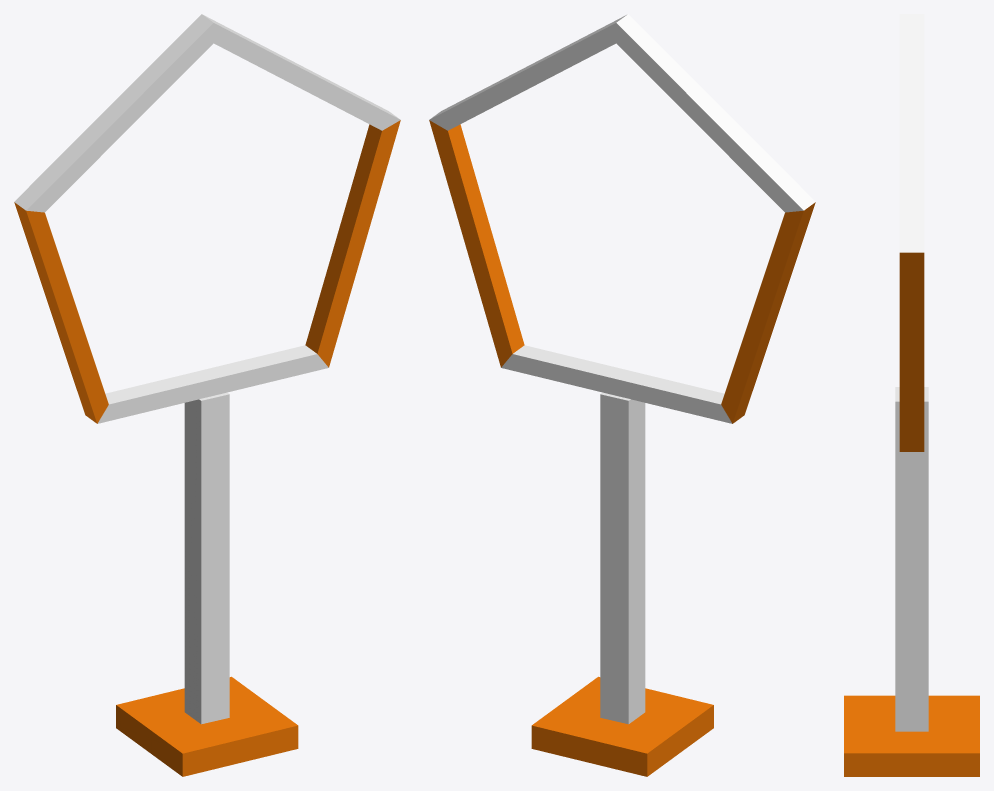
File: CircleJump.fbx
3 renders of one model, left to right at view 1: azimuth 30°, elevation 25°; view 2: azimuth 150°, elevation 25°; view 3: azimuth 270°, elevation 25°, orthographic. The views are drawn at different scales.
Visible parts, largest first — view 1: CircleJump, CircleJumpBeam, CircleJumpBase; view 2: CircleJump, CircleJumpBeam, CircleJumpBase; view 3: CircleJump, CircleJumpBeam, CircleJumpBase.
Part boxes in pixels (left/top/right/bottom): CircleJump: left=14, top=14, right=400, bottom=423; CircleJumpBeam: left=184, top=392, right=229, bottom=724; CircleJumpBase: left=116, top=676, right=298, bottom=776; CircleJump: left=429, top=14, right=815, bottom=423; CircleJumpBeam: left=600, top=392, right=645, bottom=724; CircleJumpBase: left=531, top=676, right=713, bottom=776; CircleJump: left=899, top=14, right=924, bottom=451; CircleJumpBeam: left=895, top=387, right=928, bottom=731; CircleJumpBase: left=844, top=695, right=979, bottom=776.
Size of the model in its own units: 339 by 623 by 104.
1 material, 1 textured.
